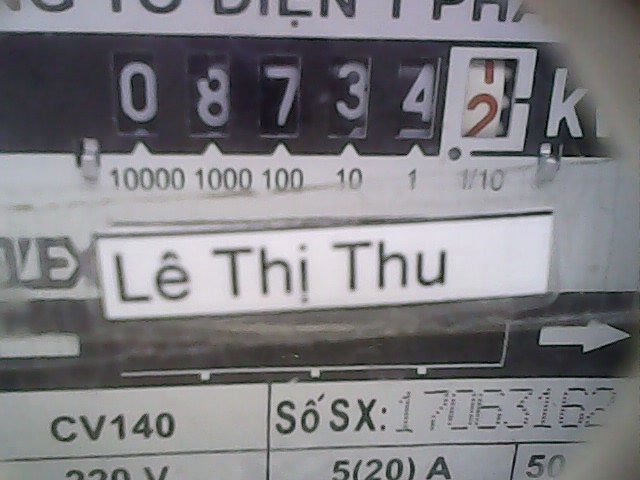phy_plate: (96, 26, 548, 159)
